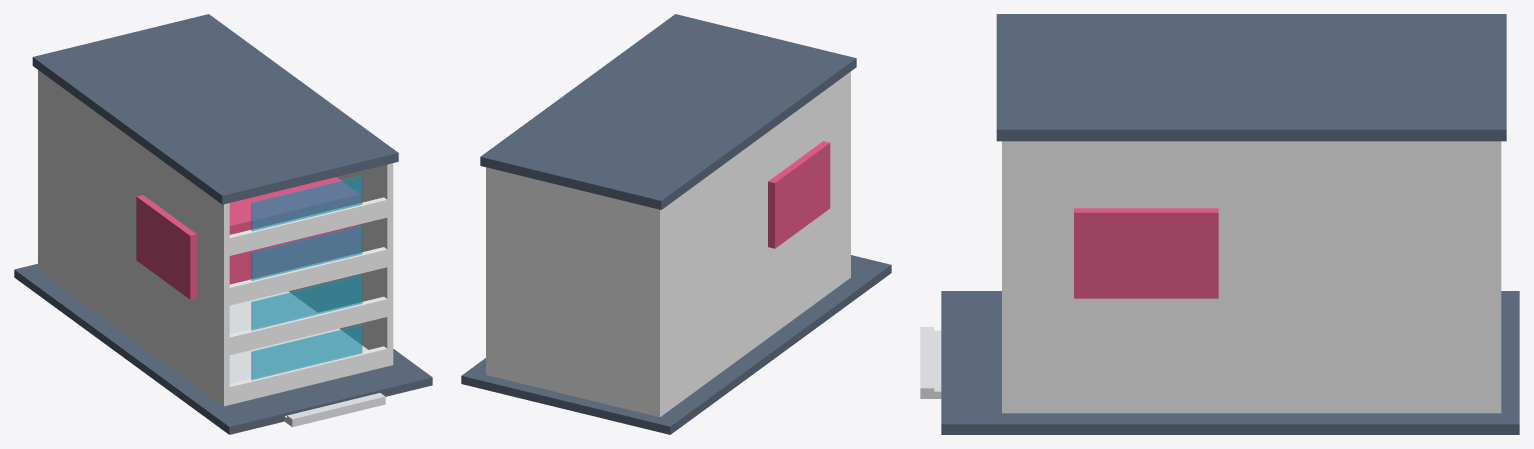
File: gedung_fakultas_desain.glb
3 renders of one model, left to right at view 1: azimuth 30°, elevation 25°; view 2: azimuth 150°, elevation 25°; view 3: azimuth 270°, elevation 25°, orthographic. The views are drawn at different scales.
Parts seen in each view (by area): view 1: Gedung_Fakultas_Desain, Undakan_Stairs; view 2: Gedung_Fakultas_Desain; view 3: Gedung_Fakultas_Desain, Undakan_Stairs.
Boxes of the visible parts, bbox=[...] form: Gedung_Fakultas_Desain: bbox=[14, 14, 432, 434]; Undakan_Stairs: bbox=[284, 393, 385, 427]; Gedung_Fakultas_Desain: bbox=[461, 14, 891, 434]; Gedung_Fakultas_Desain: bbox=[941, 14, 1519, 434]; Undakan_Stairs: bbox=[920, 327, 941, 398].
Bounding box in the file's own units: 12 × 12.45 × 22.8.
